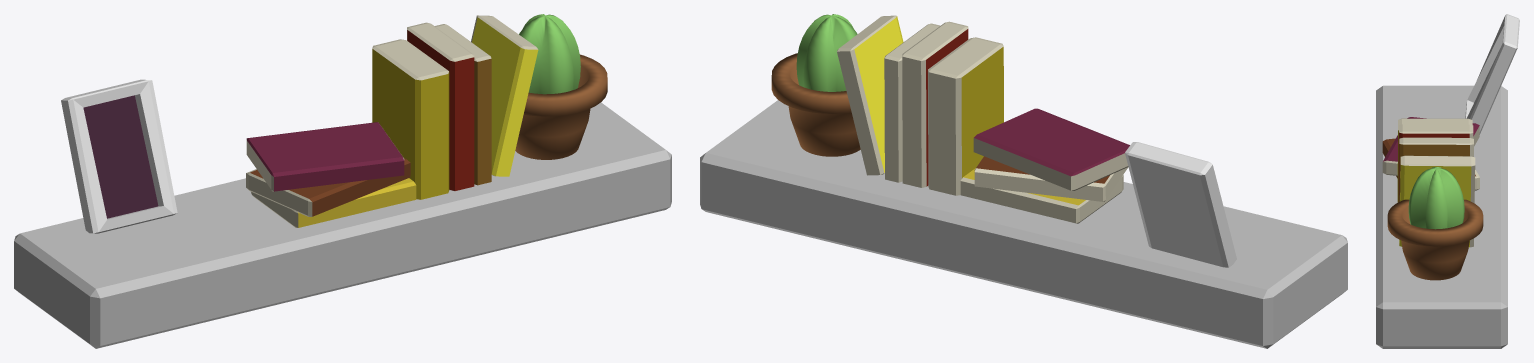
The model's file is bookshelf.glb.
3 views of the same model, side by side, from view 1: azimuth 30°, elevation 25°; view 2: azimuth 150°, elevation 25°; view 3: azimuth 270°, elevation 25° (orthographic). The views are drawn at different scales.
Visible parts, largest first — view 1: Sphere.003; view 2: Sphere.003; view 3: Sphere.003.
Part boxes in pixels (left/top/right/bottom): Sphere.003: left=14, top=14, right=671, bottom=348; Sphere.003: left=700, top=14, right=1347, bottom=348; Sphere.003: left=1376, top=14, right=1519, bottom=348.
Size of the model in its own units: 0.8751 by 0.2742 by 0.2409.
